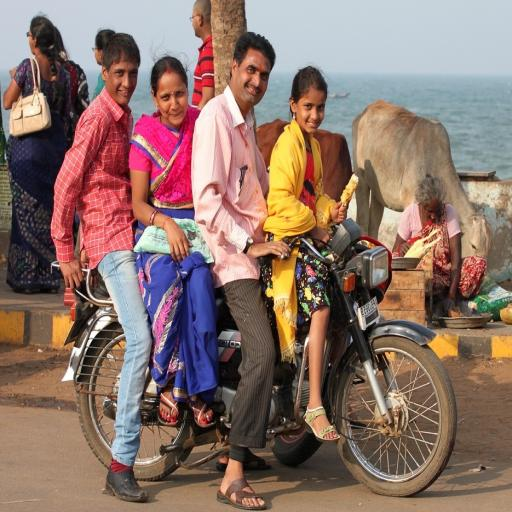overloading: (53, 216, 459, 500)
